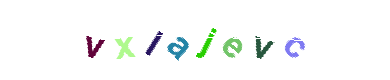A: (155, 0, 235, 80)
C: (222, 0, 302, 80)
E: (194, 0, 274, 80)
J: (166, 0, 246, 80)
L: (138, 0, 218, 80)
V: (76, 0, 156, 80), (197, 0, 277, 80)
X: (115, 0, 195, 80)
